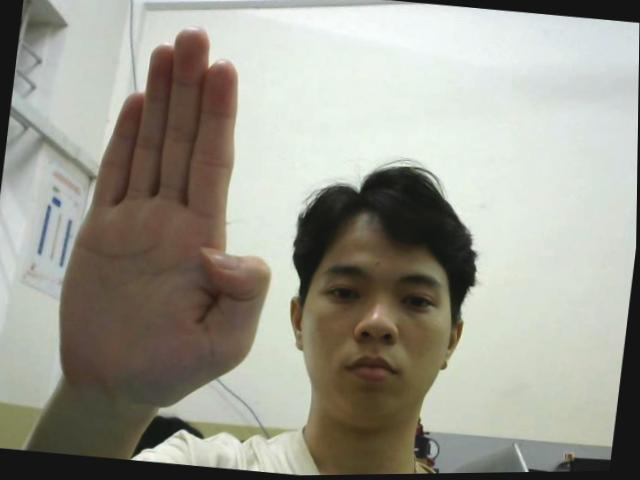B: (48, 16, 299, 418)
